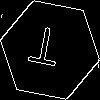T: (25, 25, 63, 76)
